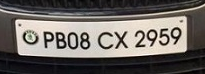0: (67, 32, 79, 49)
2: (133, 29, 147, 48)
5: (158, 27, 170, 47)
8: (79, 31, 92, 50)
9: (146, 28, 158, 47), (170, 27, 182, 45)
B: (55, 31, 68, 49)
C: (97, 31, 115, 50)
P: (42, 30, 55, 49)
X: (113, 30, 130, 49)
